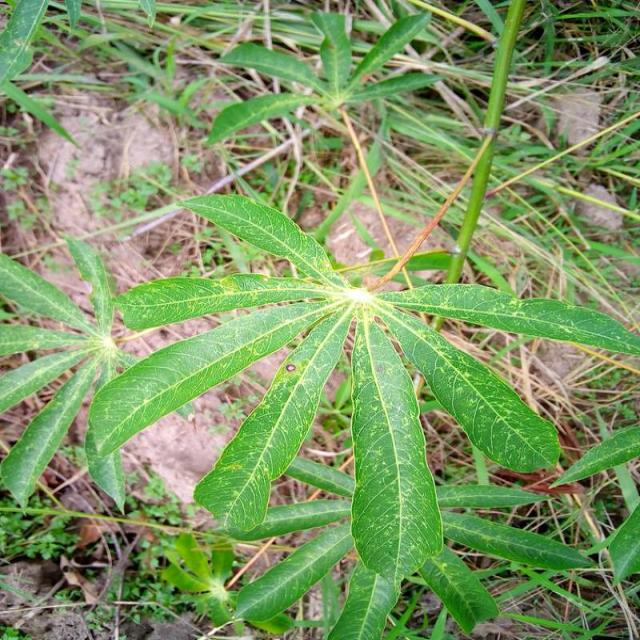cassava leaf: (84, 189, 638, 596), (194, 296, 356, 538), (350, 310, 444, 588)
